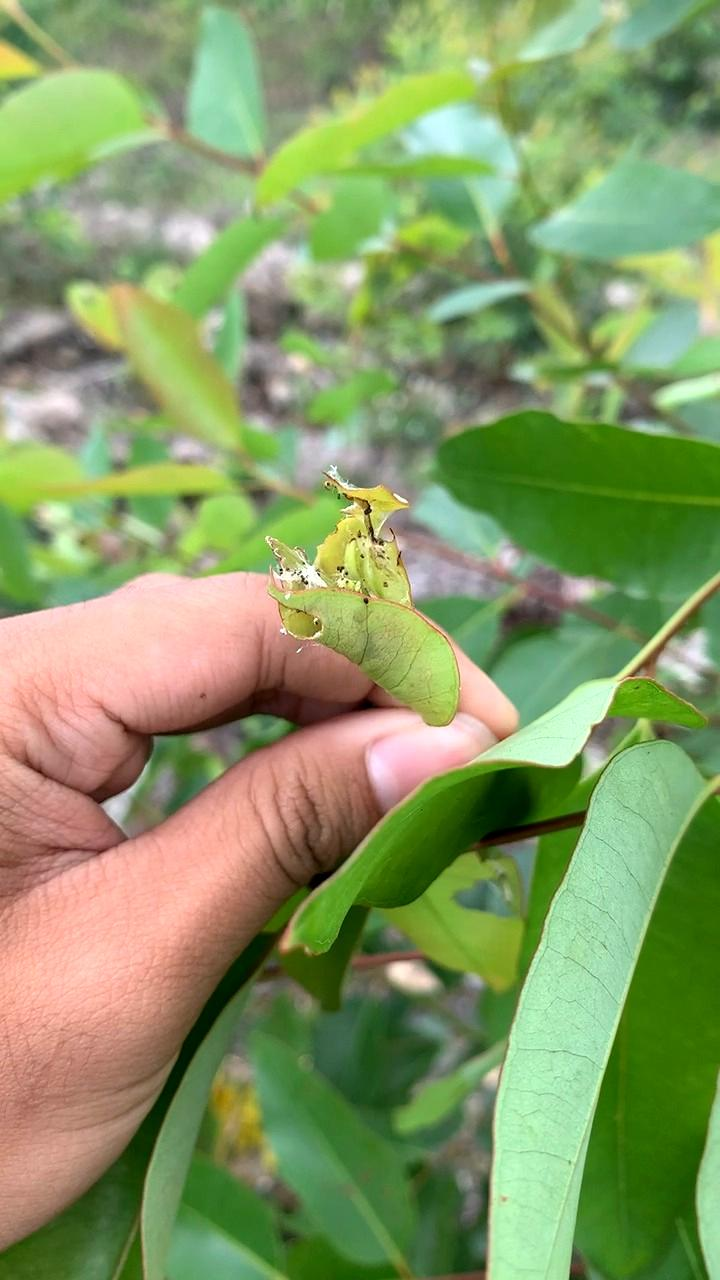Leaf Roller - Leaf: (261, 498, 471, 709)
